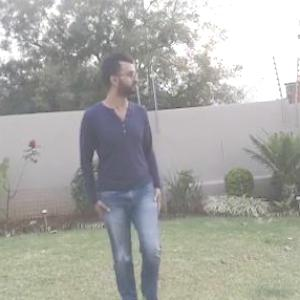follow: (79, 47, 171, 299)
